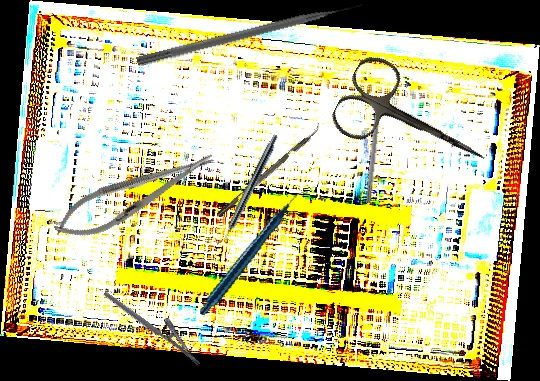Chopper: (212, 120, 324, 218)
Handpiece: (176, 190, 333, 316), (215, 132, 281, 249)
Hook Surgical: (365, 83, 385, 204)
Iris Scissors: (326, 49, 504, 198)
Needle Holder: (47, 139, 222, 251), (102, 278, 211, 367)
Pusher: (135, 0, 365, 69)
